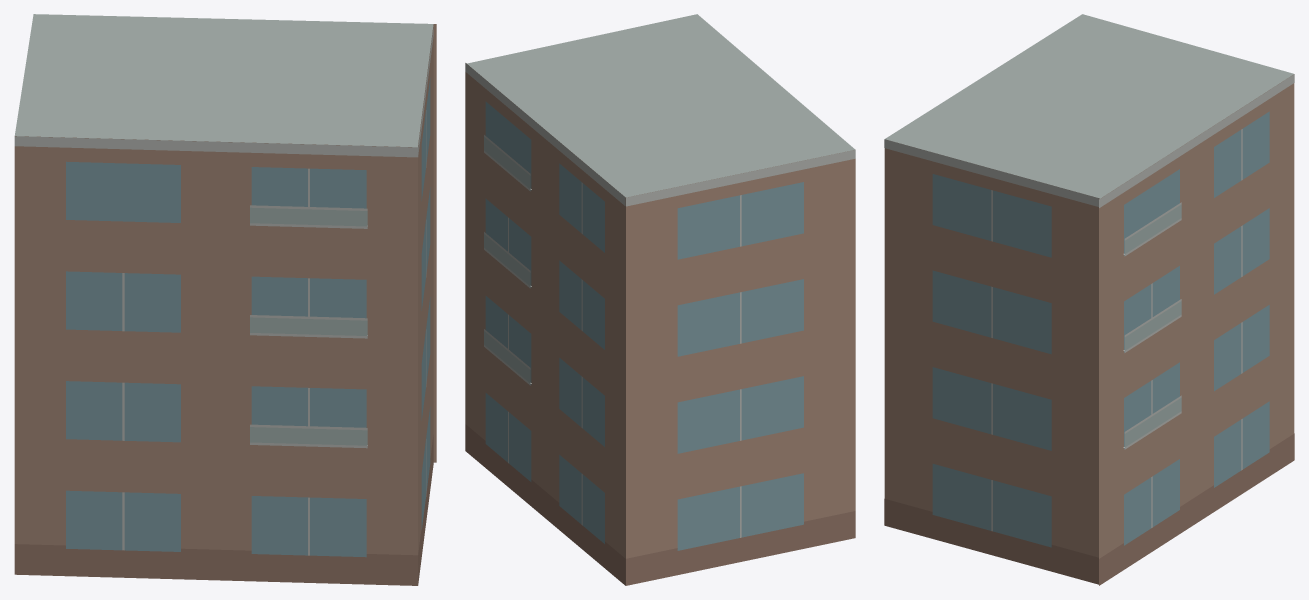
File: survey-upis-32623224.glb
The picture shows the model from 3 angles, left to right: view 1: azimuth 30°, elevation 25°; view 2: azimuth 150°, elevation 25°; view 3: azimuth 270°, elevation 25°; orthographic projection. The views are drawn at different scales.
Visible parts, largest first — view 1: survey-upis-32623224.tmp; view 2: survey-upis-32623224.tmp; view 3: survey-upis-32623224.tmp.
Part boxes in pixels (x1,y1,x2,y2): survey-upis-32623224.tmp: (14, 14, 436, 585); survey-upis-32623224.tmp: (465, 14, 855, 585); survey-upis-32623224.tmp: (884, 14, 1294, 585).
Bounding box in the file's own units: 10.81 × 10.5 × 10.1.
